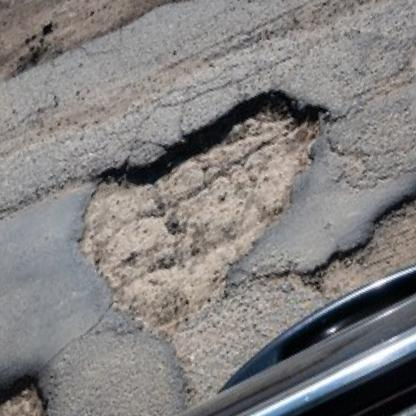pothole: (66, 44, 331, 330), (314, 2, 416, 355), (0, 351, 60, 416)
